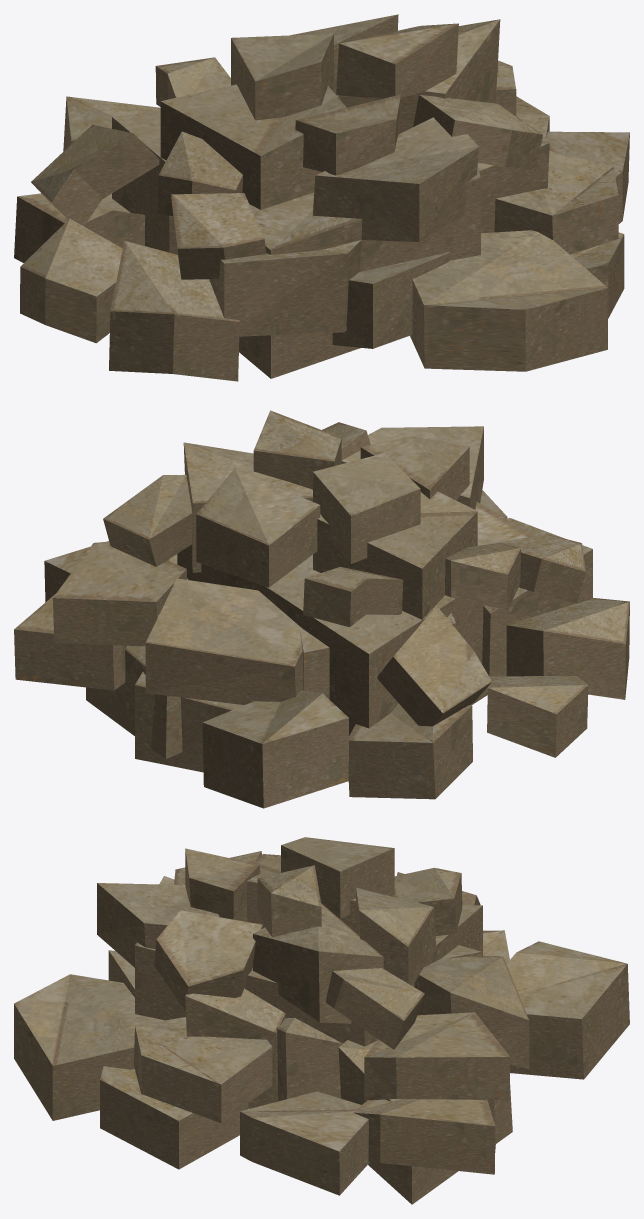
Rendered from RubblePile2x1x2.fbx.
3 renders of one model, top to bottom at view 1: azimuth 30°, elevation 25°; view 2: azimuth 150°, elevation 25°; view 3: azimuth 270°, elevation 25°, orthographic. The views are drawn at different scales.
Parts seen in each view (by area): view 1: JoinedRubble1; view 2: JoinedRubble1; view 3: JoinedRubble1.
Part boxes in pixels (x1,y1,x2,y2): JoinedRubble1: [14, 14, 629, 381]; JoinedRubble1: [14, 410, 629, 808]; JoinedRubble1: [14, 837, 629, 1204].
Bounding box in the file's own units: 253 × 121 × 256.
